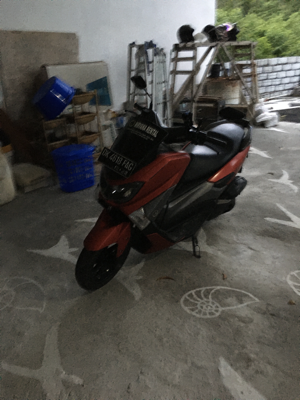moto: (75, 106, 256, 292)
